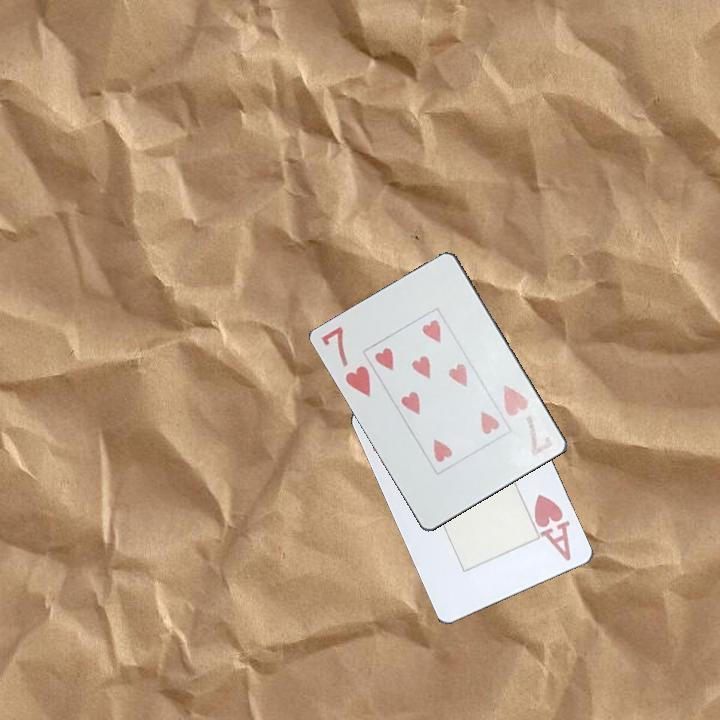7h: (500, 381, 557, 460), (318, 323, 374, 400)
Ah: (531, 489, 574, 564)
